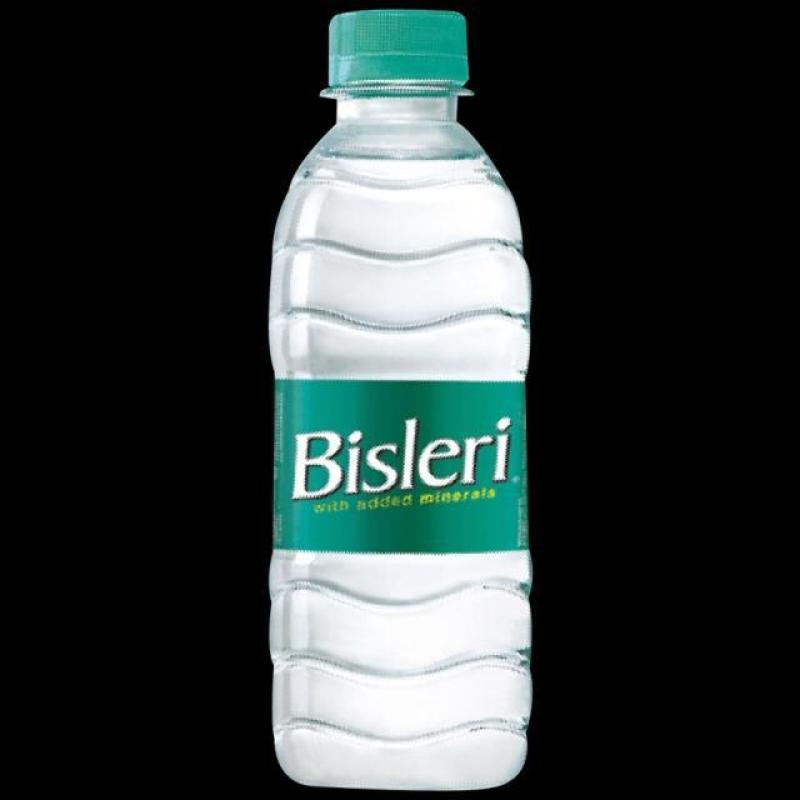botella: (262, 8, 537, 792)
